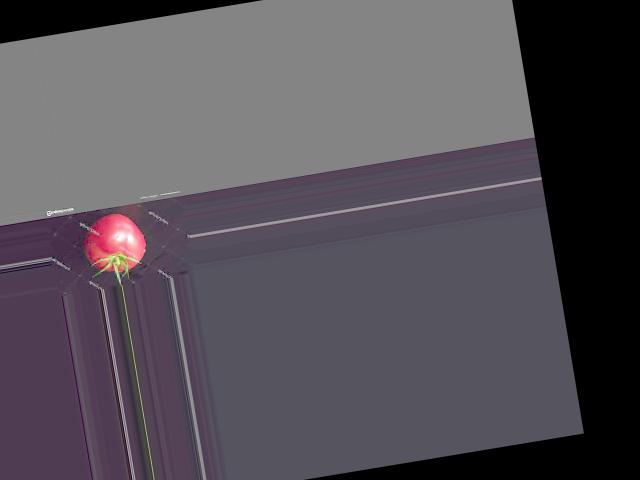tomato: (80, 209, 149, 276)
